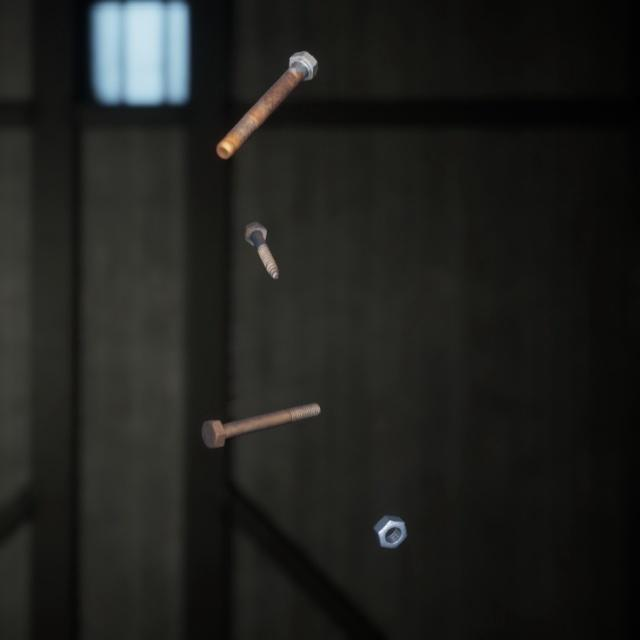bolt: (211, 35, 322, 150), (197, 378, 324, 431), (239, 200, 283, 266)
nut: (368, 489, 411, 532)
